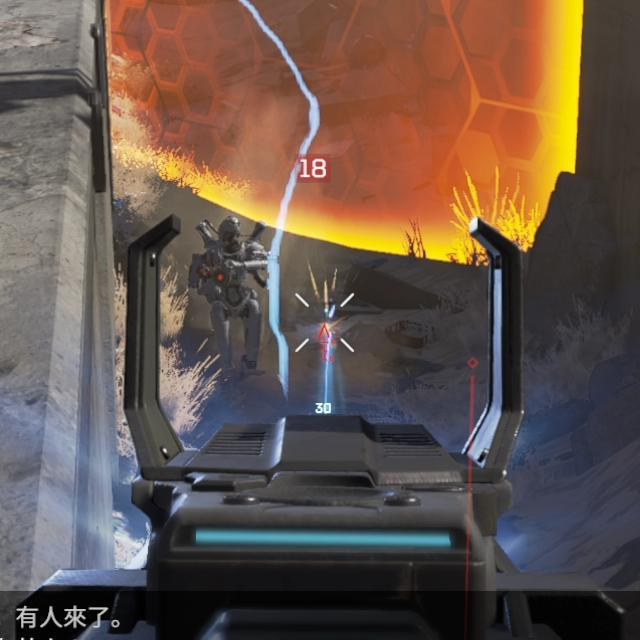avatar: (187, 213, 267, 377)
